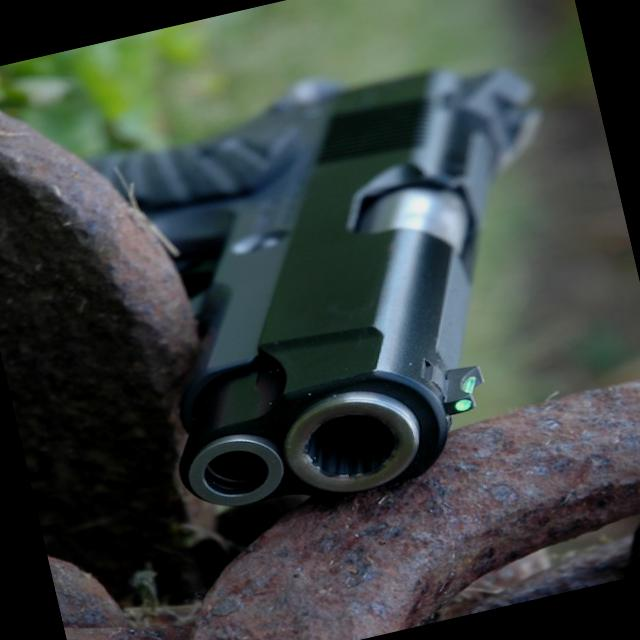handgun: (90, 29, 621, 530)
